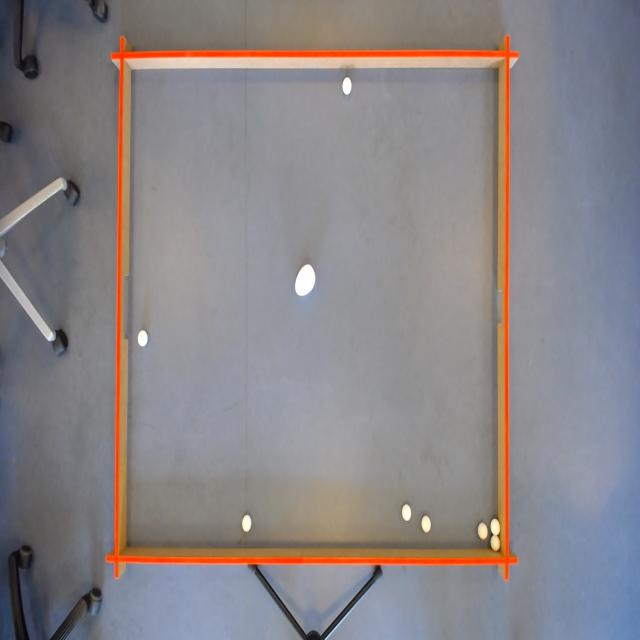egg: (293, 261, 317, 299)
white_ball: (340, 73, 354, 98), (420, 512, 434, 536), (136, 328, 149, 352), (488, 530, 500, 554), (240, 514, 253, 534), (476, 521, 489, 541), (401, 501, 413, 522), (491, 516, 502, 536)
